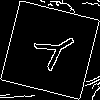Y: (25, 25, 82, 77)
